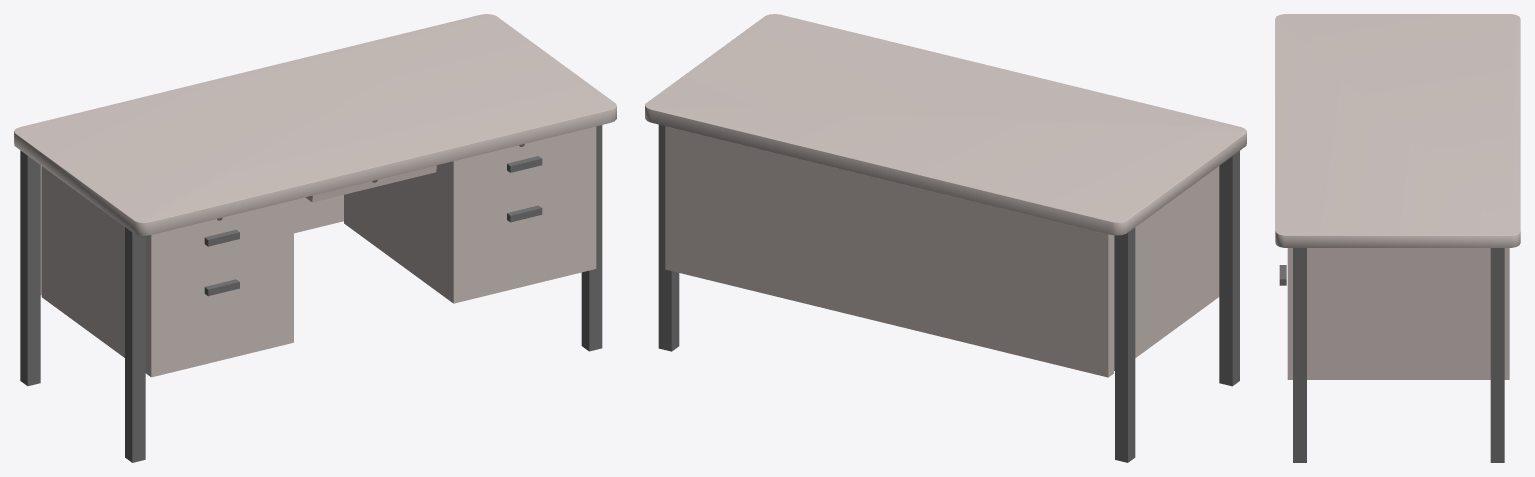
The model's file is Teacher table.fbx.
3 renders of one model, left to right at view 1: azimuth 30°, elevation 25°; view 2: azimuth 150°, elevation 25°; view 3: azimuth 270°, elevation 25°, orthographic. The views are drawn at different scales.
Parts seen in each view (by area): view 1: Teacher Desk; view 2: Teacher Desk; view 3: Teacher Desk.
Part boxes in pixels (<box>): Teacher Desk: <box>14,14,616,462</box>; Teacher Desk: <box>645,14,1246,462</box>; Teacher Desk: <box>1275,14,1520,462</box>.
Bounding box in the file's own units: 242 × 118 × 113.
